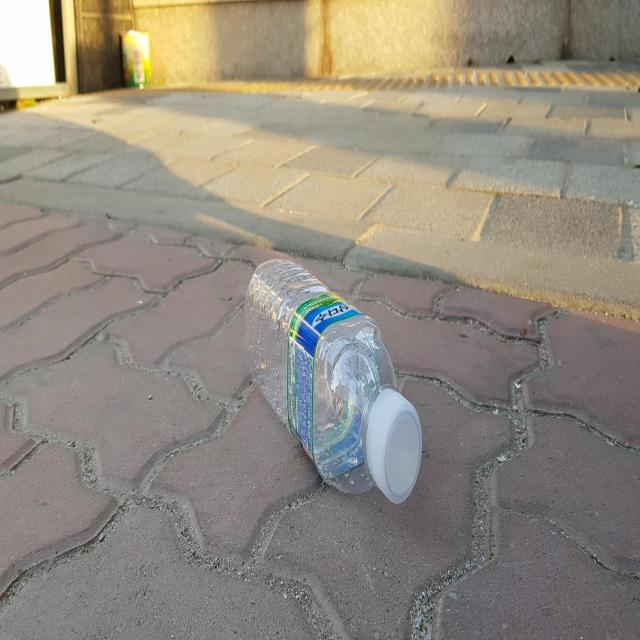plastic: (245, 258, 422, 503)
